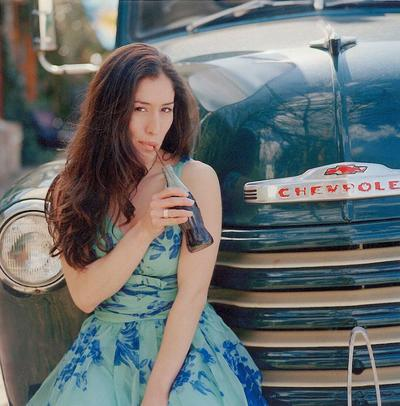person: (25, 39, 274, 406)
